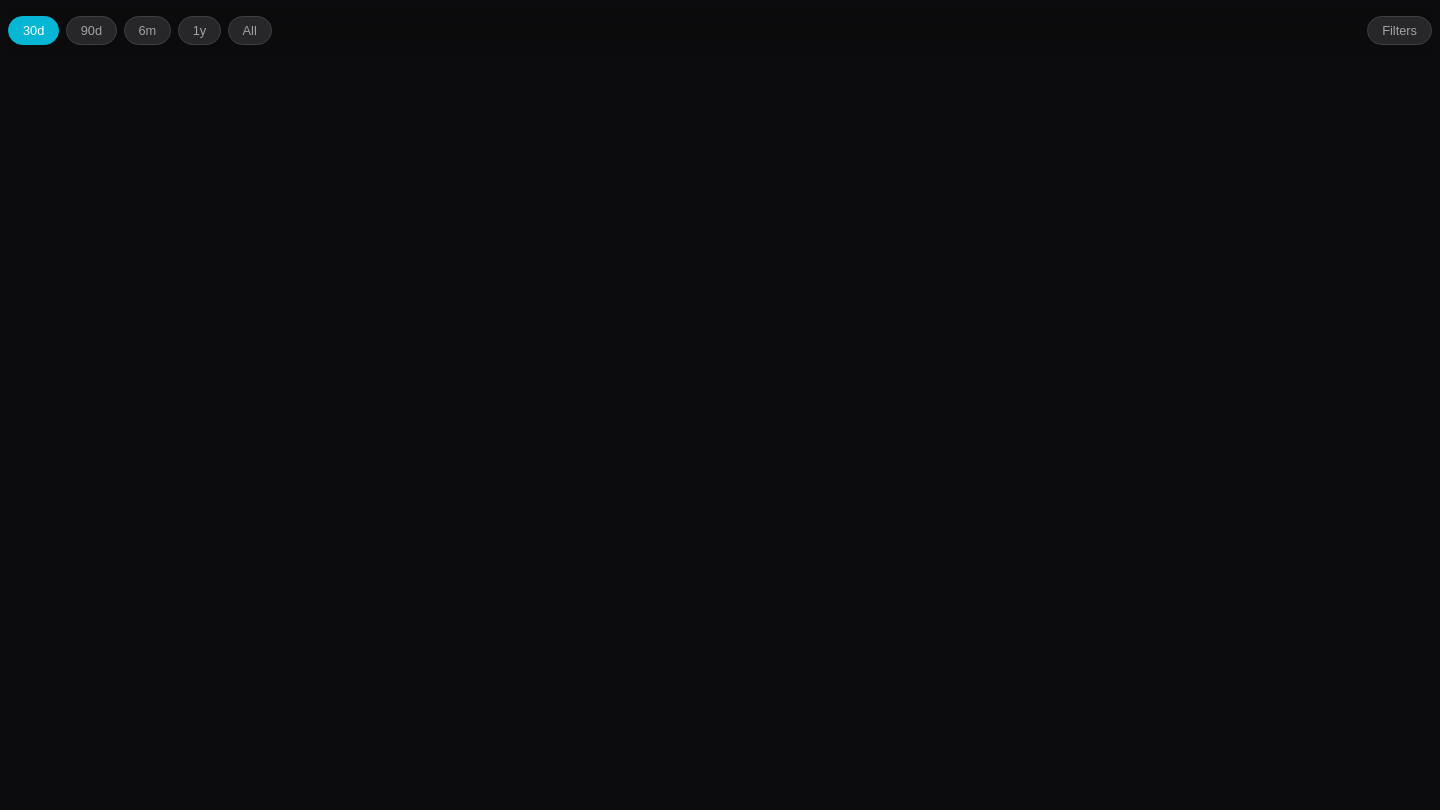
Test: AnalyticsFilterBar › closes when clicking backdrop (click outside)
Click the button "Filters": (1400, 30) [1367, 16, 1432, 45]
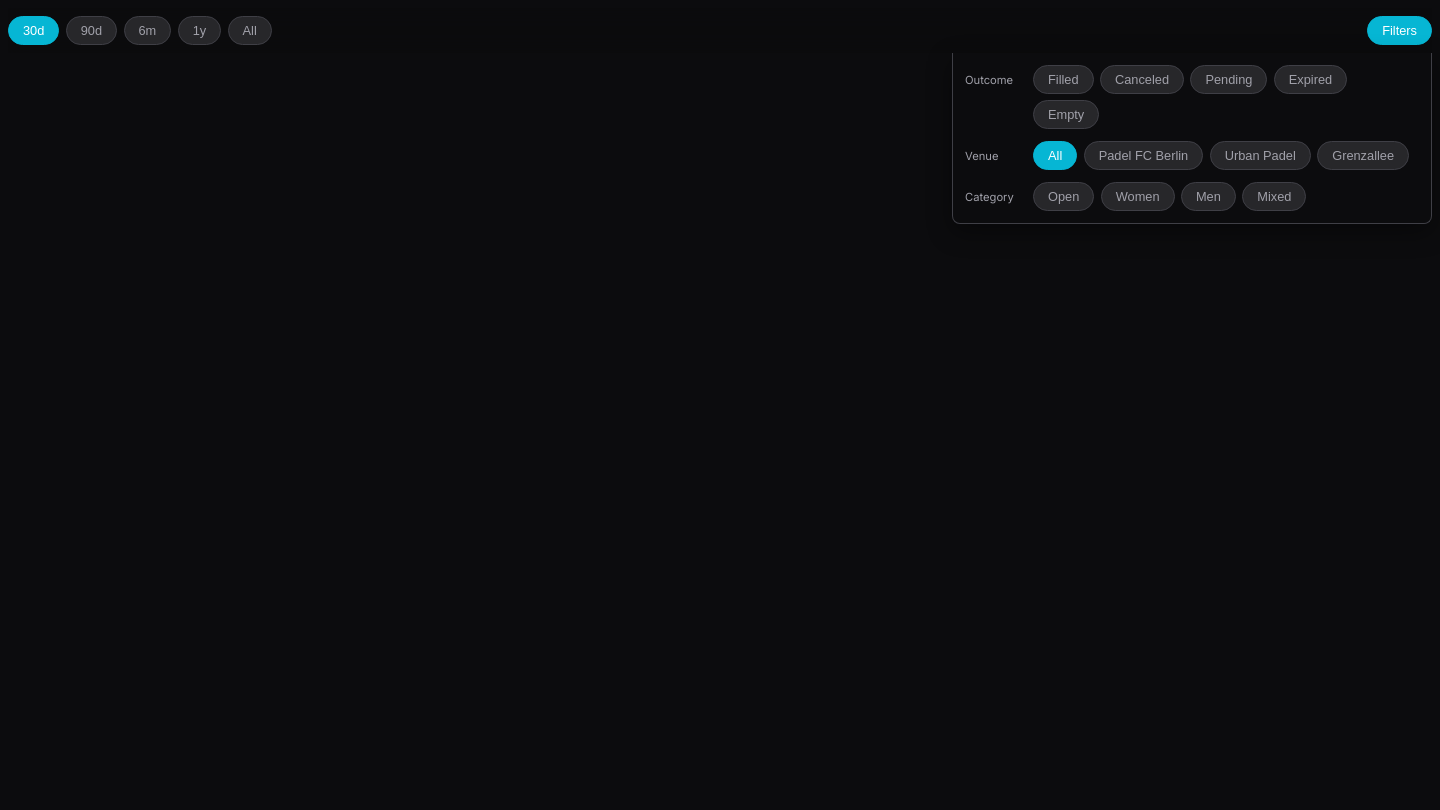
Result: the button "Filled" is shown at [1033, 65, 1094, 94]
Result: the element with class "klimt-filters-backdrop" is shown
Click the element with class "klimt-filters-backdrop": (720, 405) [0, 0, 1439, 809]
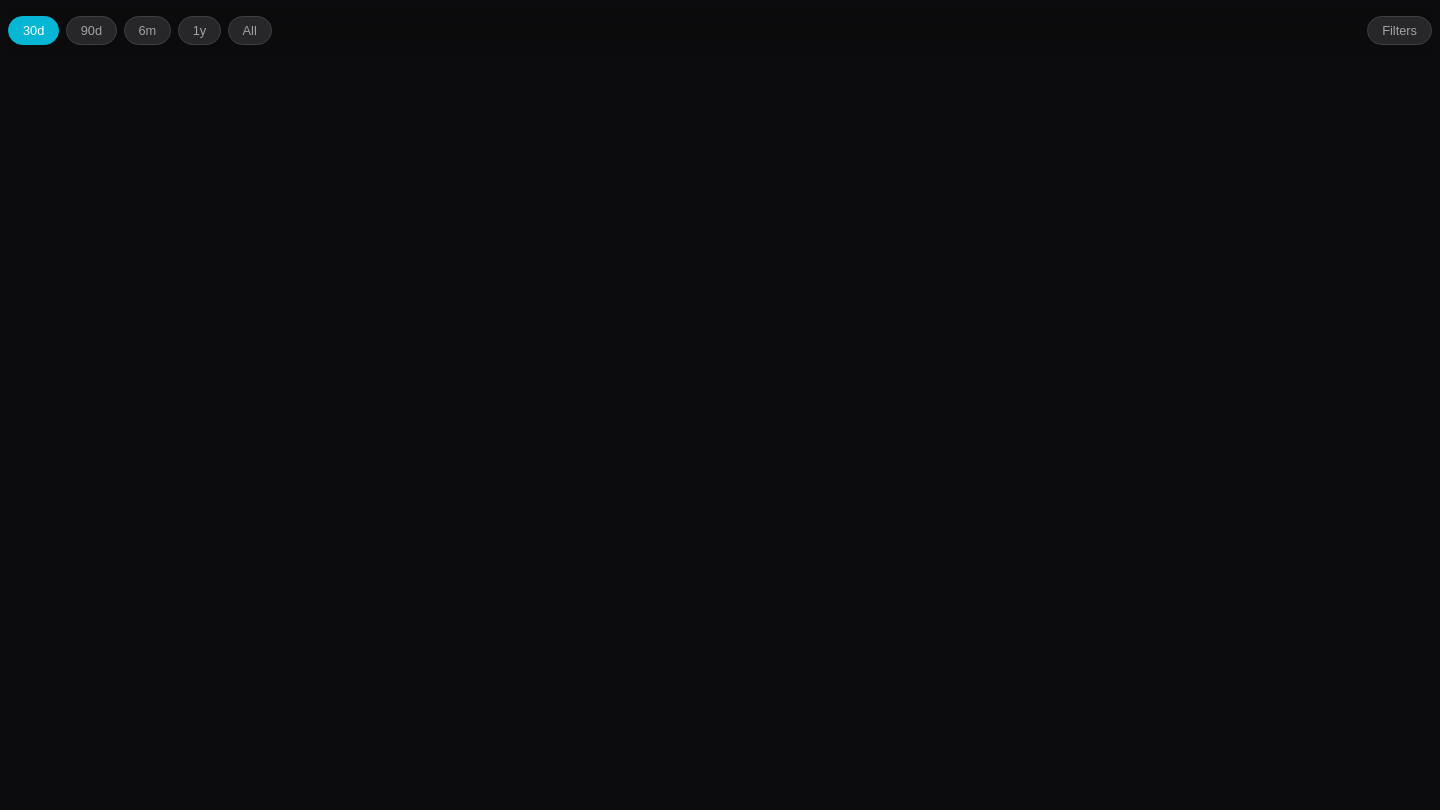
Result: the button "Filled" is gone
